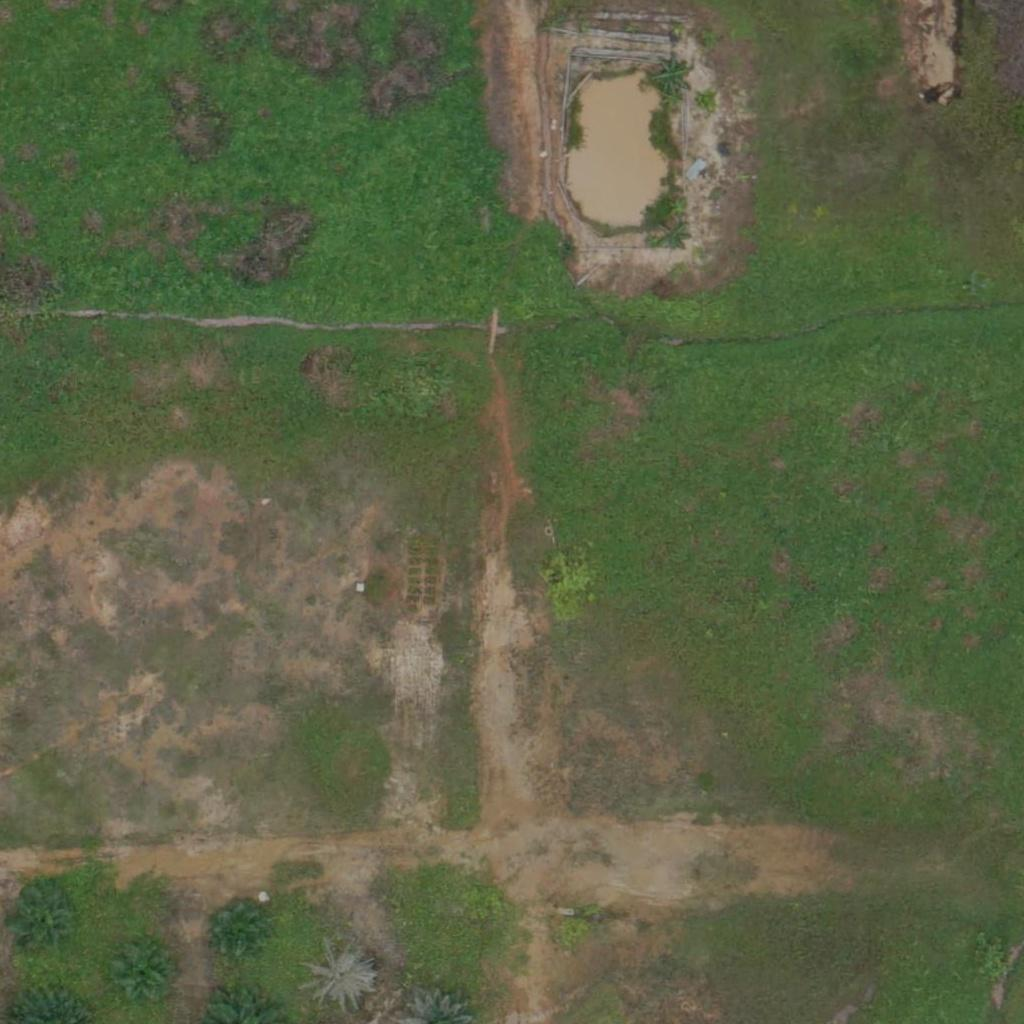Kelapa_Sawit: (302, 938, 377, 1014), (13, 890, 76, 953), (110, 937, 173, 1000), (206, 898, 268, 960)
